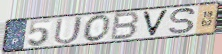5: (27, 18, 55, 48)
B: (109, 11, 141, 41)
O: (82, 14, 113, 43)
S: (168, 7, 197, 35)
U: (53, 16, 85, 46)
V: (140, 9, 171, 38)
